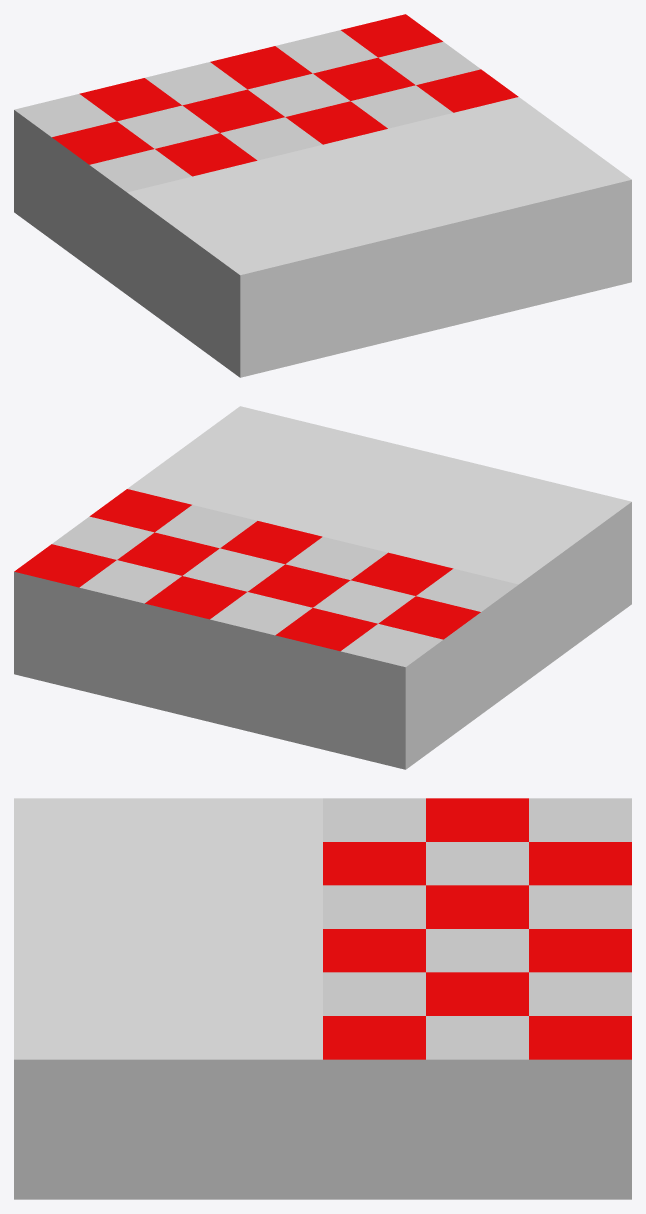
File: road_warning.fbx
3 views of the same model, one above another, from view 1: azimuth 30°, elevation 25°; view 2: azimuth 150°, elevation 25°; view 3: azimuth 270°, elevation 25° (orthographic). The views are drawn at different scales.
Visible parts, largest first — view 1: road_warning.001; view 2: road_warning.001; view 3: road_warning.001.
Part boxes in pixels (box(x1,y1,x2,y2)): road_warning.001: box(14, 14, 631, 377); road_warning.001: box(14, 406, 631, 769); road_warning.001: box(14, 798, 631, 1199).
Bounding box in the file's own units: 10.21 × 2.55 × 10.21.
